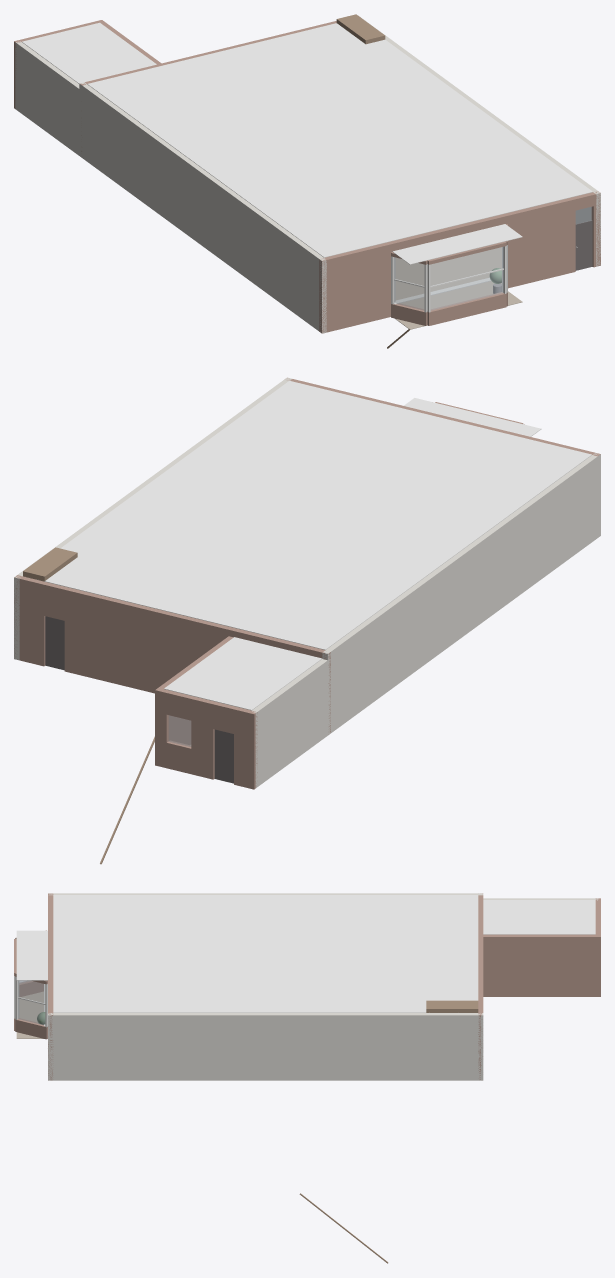
File: house.glb
3 renders of one model, top to bottom at view 1: azimuth 30°, elevation 25°; view 2: azimuth 150°, elevation 25°; view 3: azimuth 270°, elevation 25°, orthographic. The views are drawn at different scales.
Parts seen in each view (by area): view 1: Ceil_main, Party_L, FrontWall_pier0, FrontWall_pier2, Party_L_kit, Ceil_kitchen, Floor_main, Bay_glass_1, Ceil_bay, Party_R, Bay_dwarf_1, Bay_glass_0 (+7 smaller); view 2: Ceil_main, Party_L, RearWall_pier5, Ceil_kitchen, Party_L_kit, RearWall_pier7, Party_R, KitRearWall_pier2, KitRearWall_pier0, Ceil_bay, KitRearWall_pier5, SideDoor_leaf (+6 smaller); view 3: Ceil_main, Party_R, Ext_kit_side, Ceil_kitchen, Ceil_bay, Bay_glass_2, Party_L, Floor_bay, Stair_landing.
Boxes of the visible parts, bbox=[...] form: Ceil_main: bbox=[87, 23, 592, 257]; Party_L: bbox=[79, 82, 326, 333]; FrontWall_pier0: bbox=[319, 242, 392, 333]; FrontWall_pier2: bbox=[503, 197, 575, 288]; Party_L_kit: bbox=[15, 41, 80, 156]; Ceil_kitchen: bbox=[22, 22, 156, 83]; Floor_main: bbox=[395, 247, 501, 307]; Bay_glass_1: bbox=[431, 247, 503, 310]; Ceil_bay: bbox=[392, 224, 522, 264]; Party_R: bbox=[359, 16, 600, 266]; Bay_dwarf_1: bbox=[427, 292, 506, 325]; Bay_glass_0: bbox=[394, 257, 423, 310]; Ceil_main: bbox=[25, 380, 591, 649]; Party_L: bbox=[322, 452, 600, 734]; RearWall_pier5: bbox=[64, 587, 241, 693]; Ceil_kitchen: bbox=[164, 637, 322, 710]; Party_L_kit: bbox=[251, 659, 329, 787]; RearWall_pier7: bbox=[14, 575, 46, 666]; Party_R: bbox=[14, 377, 292, 660]; KitRearWall_pier2: bbox=[191, 696, 216, 779]; KitRearWall_pier0: bbox=[234, 707, 257, 789]; Ceil_bay: bbox=[404, 398, 541, 436]; KitRearWall_pier5: bbox=[155, 689, 169, 768]; SideDoor_leaf: bbox=[45, 616, 64, 670]; Ceil_main: bbox=[53, 895, 478, 1012]; Party_R: bbox=[48, 1013, 483, 1080]; Ext_kit_side: bbox=[483, 934, 598, 996]; Ceil_kitchen: bbox=[483, 900, 595, 934]; Ceil_bay: bbox=[16, 930, 47, 980]; Bay_glass_2: bbox=[18, 981, 44, 1024]; Party_L: bbox=[48, 893, 483, 895]; Floor_bay: bbox=[16, 991, 43, 1038]; Stair_landing: bbox=[431, 1000, 478, 1012].
Bounding box in the file's own units: 12.86 × 12.9 × 26.12.
